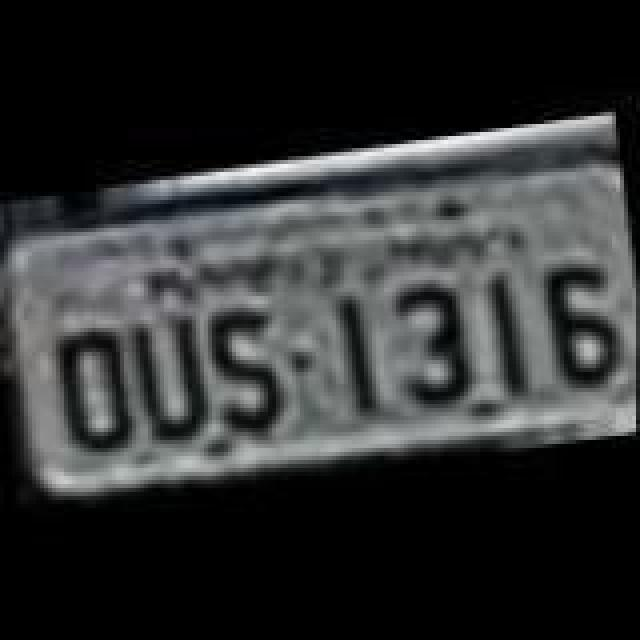1: (480, 264, 540, 404), (330, 292, 386, 424)
3: (388, 278, 488, 422)
6: (542, 254, 630, 394)
O: (54, 324, 142, 460)
S: (204, 300, 288, 440)
U: (128, 310, 220, 446)
